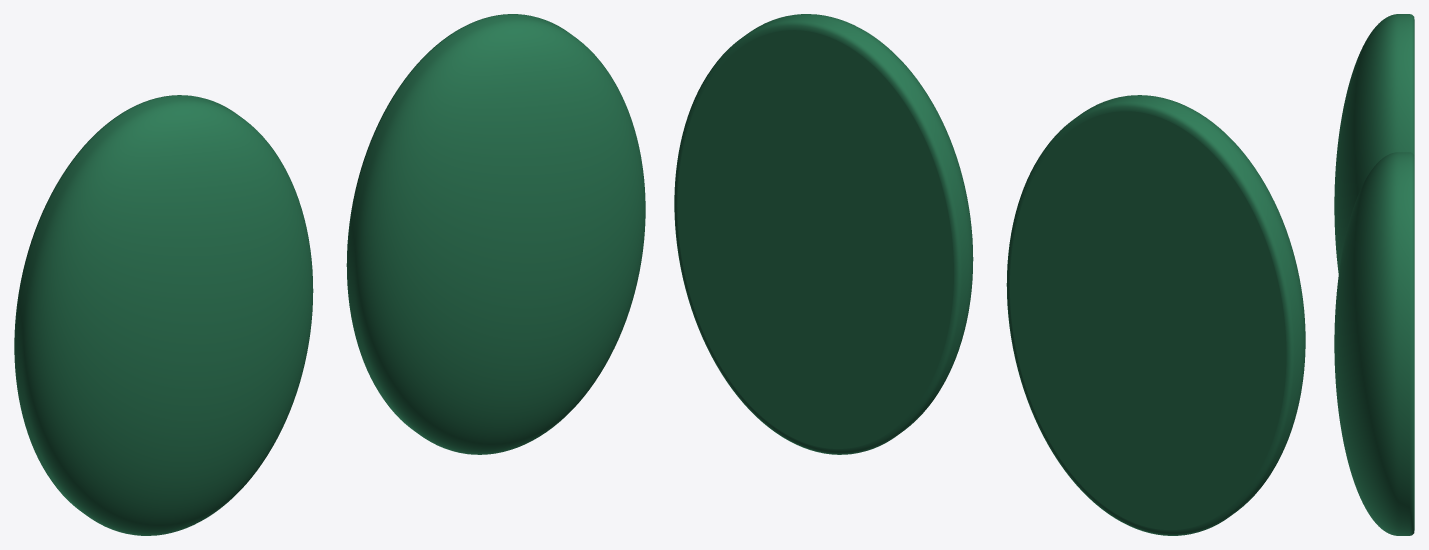
File: matched-pair-v1.glb
3 views of the same model, side by side, from view 1: azimuth 30°, elevation 25°; view 2: azimuth 150°, elevation 25°; view 3: azimuth 270°, elevation 25° (orthographic). The views are drawn at different scales.
Visible parts, largest first — view 1: Oval Cabochon 20x14x4mm.001, Oval Cabochon 20x14x4mm; view 2: Oval Cabochon 20x14x4mm, Oval Cabochon 20x14x4mm.001; view 3: Oval Cabochon 20x14x4mm.001, Oval Cabochon 20x14x4mm.
Boxes of the visible parts, box(x1,y1,x2,y2) form: Oval Cabochon 20x14x4mm.001: box(346, 14, 645, 454); Oval Cabochon 20x14x4mm: box(14, 95, 313, 535); Oval Cabochon 20x14x4mm: box(1006, 95, 1305, 535); Oval Cabochon 20x14x4mm.001: box(674, 14, 973, 454); Oval Cabochon 20x14x4mm.001: box(1334, 152, 1414, 535); Oval Cabochon 20x14x4mm: box(1334, 14, 1414, 273).
Bounding box in the file's own units: 0.0302 × 0.02 × 0.00398.
